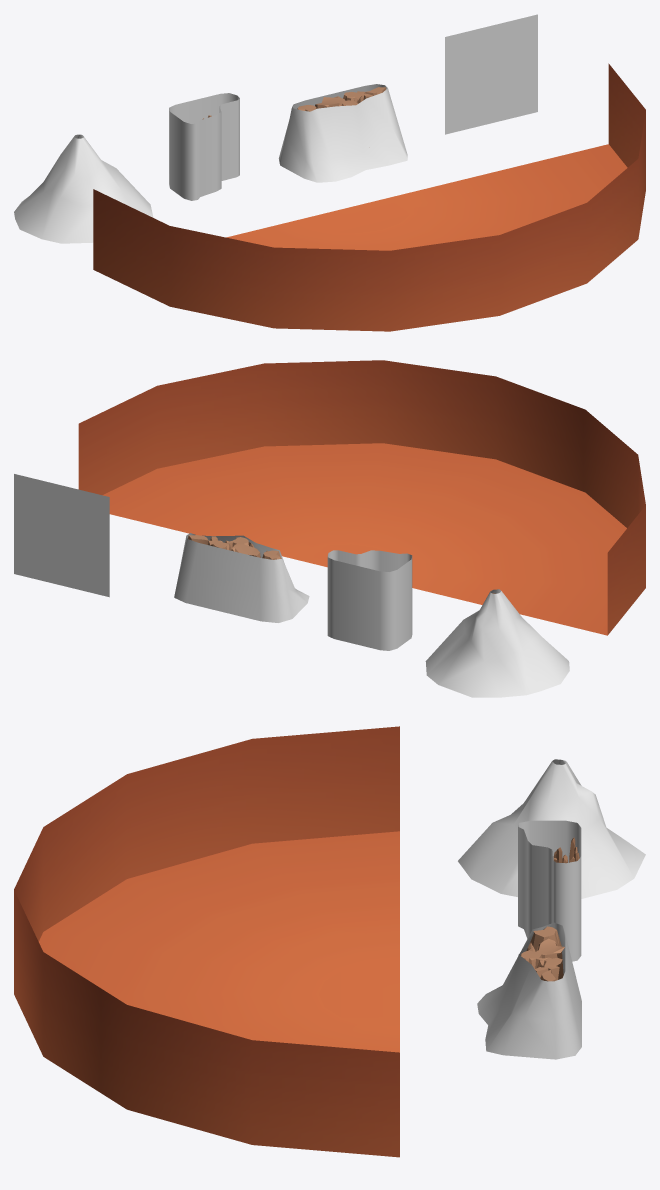
File: assets_mode1.fbx
3 renders of one model, top to bottom at view 1: azimuth 30°, elevation 25°; view 2: azimuth 150°, elevation 25°; view 3: azimuth 270°, elevation 25°, orthographic. The views are drawn at different scales.
Visible parts, largest first — view 1: ground_mode1, Fire, godray_mode1_3, godray_mode1_1, godray_mode1_2, Assets_3; view 2: ground_mode1, Fire, godray_mode1_1, godray_mode1_2, godray_mode1_3, Assets_3; view 3: ground_mode1, godray_mode1_1, godray_mode1_3, godray_mode1_2, Assets_3.
Boxes of the visible parts, box(x1,y1,x2,y2) form: ground_mode1: box(93, 63, 645, 331); Fire: box(445, 14, 537, 134); godray_mode1_3: box(278, 84, 407, 182); godray_mode1_1: box(14, 134, 153, 243); godray_mode1_2: box(169, 93, 239, 200); Assets_3: box(297, 87, 385, 111); ground_mode1: box(78, 360, 645, 635); Fire: box(14, 474, 109, 597); godray_mode1_1: box(425, 589, 569, 697); godray_mode1_2: box(327, 550, 412, 650); godray_mode1_3: box(174, 533, 309, 622); Assets_3: box(188, 535, 281, 559); ground_mode1: box(14, 726, 399, 1157); godray_mode1_1: box(458, 759, 645, 898); godray_mode1_3: box(477, 922, 581, 1059); godray_mode1_2: box(518, 820, 581, 961); Assets_3: box(520, 926, 564, 981).
Size of the model in its own units: 166 by 29.27 by 132.
